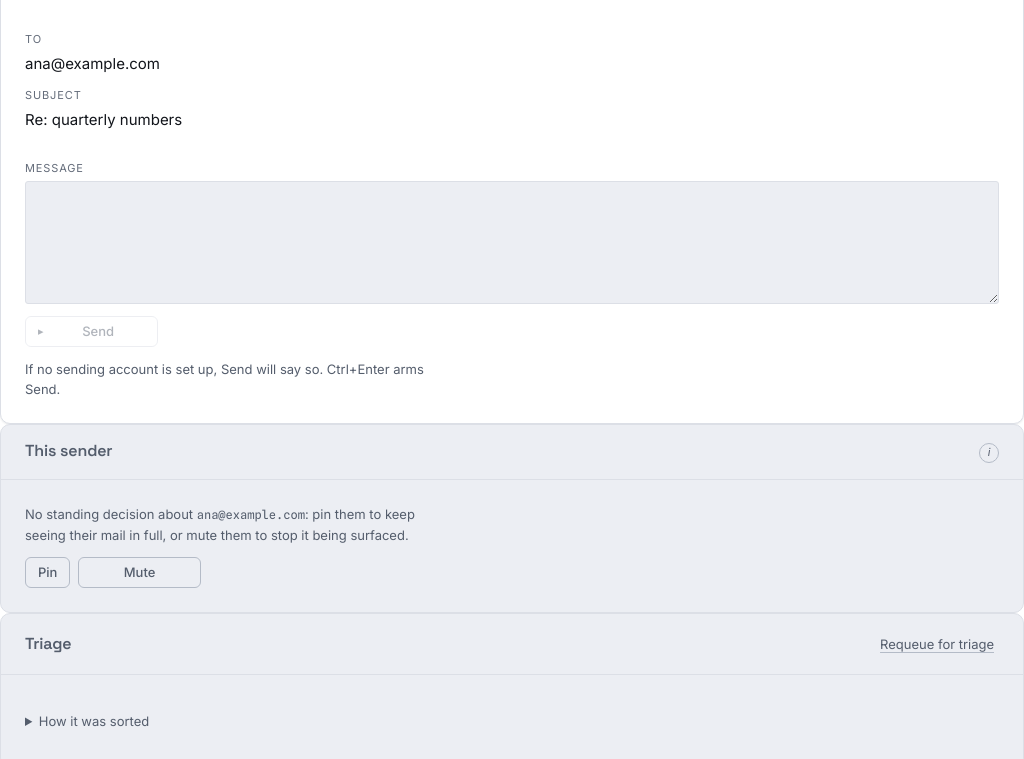
MailDetail — the standing decision about a sender › asks twice before muting, because muted mail stops being surfaced silently
(page scrolled)
Click the button "Mute" at (140, 572), box [78,557,201,588]
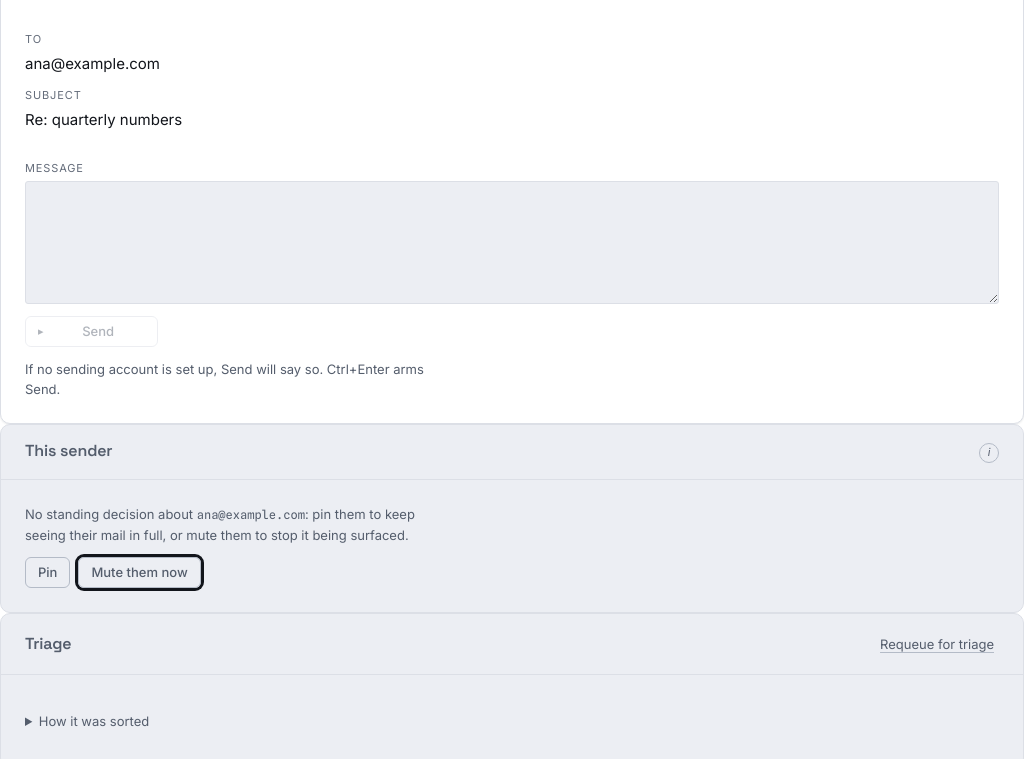
Click the button "Mute them now" at (140, 572), box [78,557,201,588]
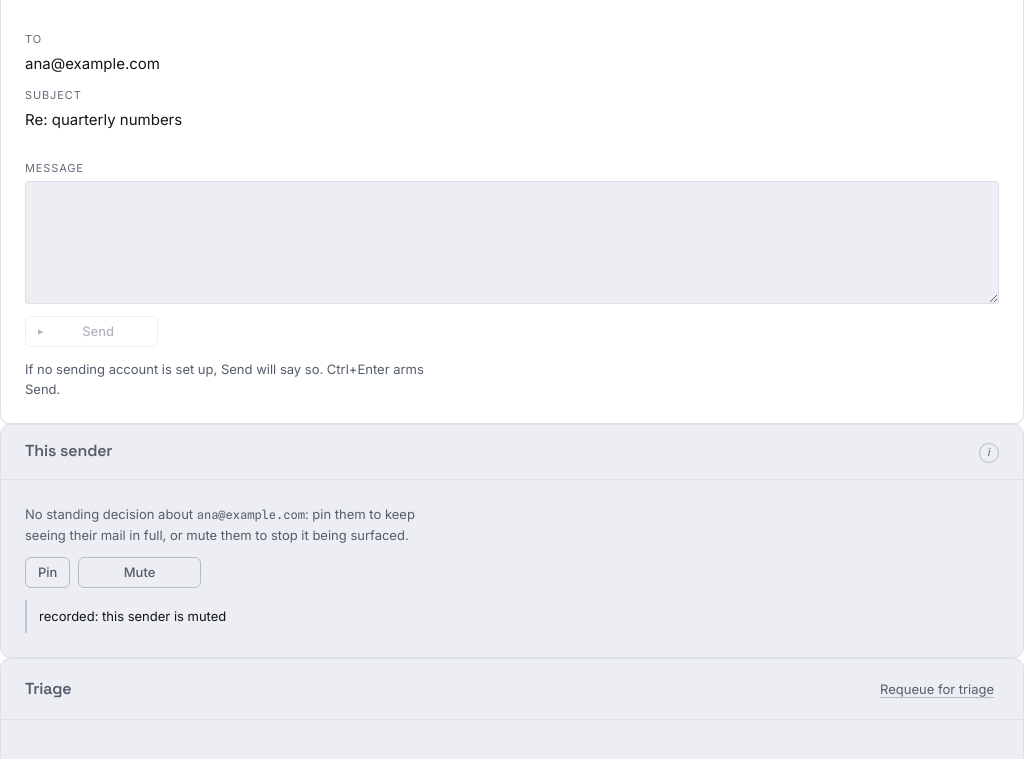
Result: the text "recorded: this sender is muted" is shown at [25,600,999,633]
